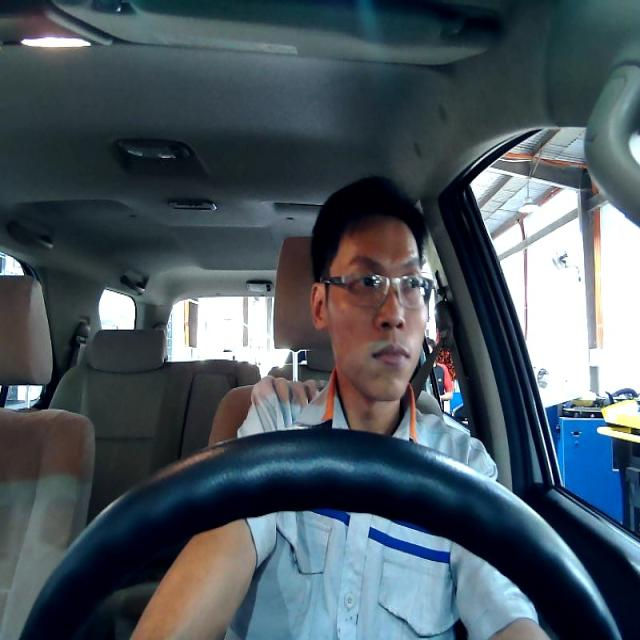focused: (308, 214, 427, 401)
